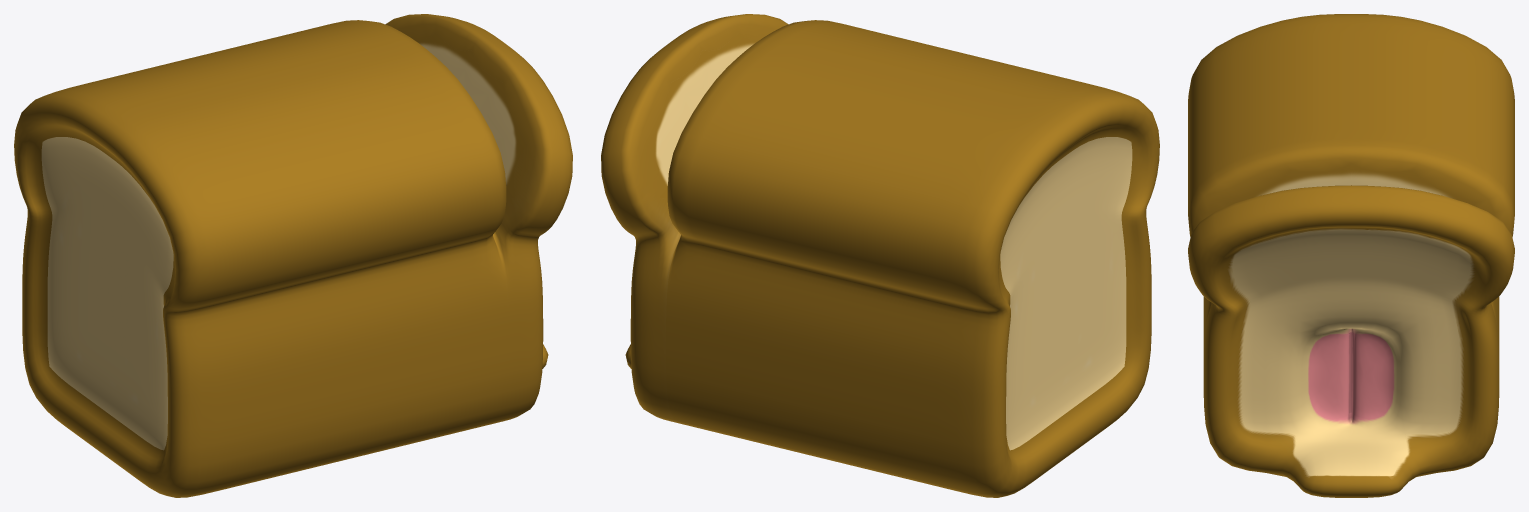
The model's file is Bread.fbx.
3 renders of one model, left to right at view 1: azimuth 30°, elevation 25°; view 2: azimuth 150°, elevation 25°; view 3: azimuth 270°, elevation 25°, orthographic. The views are drawn at different scales.
Parts seen in each view (by area): view 1: Cube; view 2: Cube; view 3: Cube.
Boxes of the visible parts, x1,y1,x2,y2 form: Cube: (14, 14, 572, 497); Cube: (601, 14, 1159, 497); Cube: (1188, 14, 1514, 497).
Size of the model in its own units: 306 by 230 by 221.
Materials: 1 (1 with a texture image).
